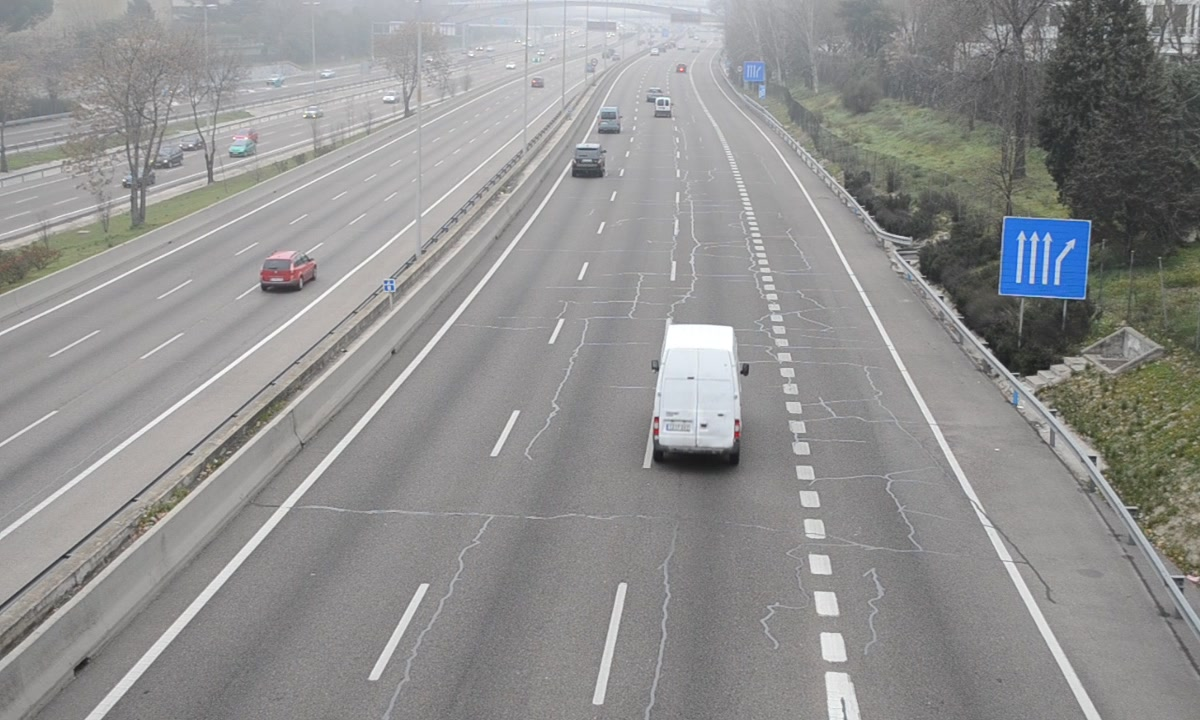car: (571, 144, 606, 180)
van: (653, 325, 741, 464), (598, 106, 620, 134)
